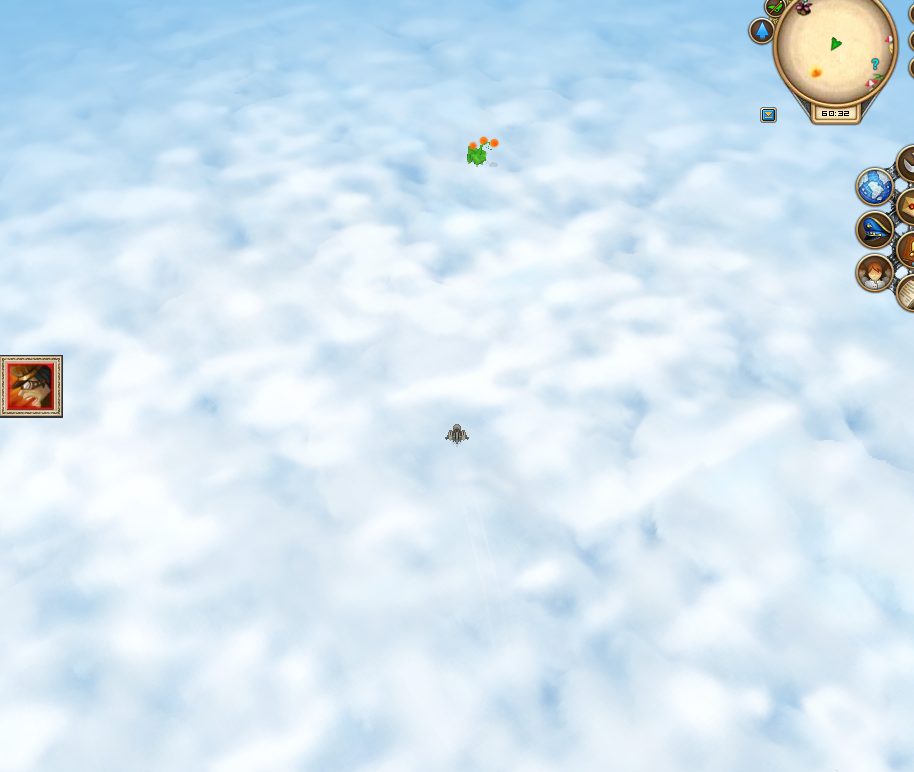dandelion-full: (463, 133, 498, 169)
